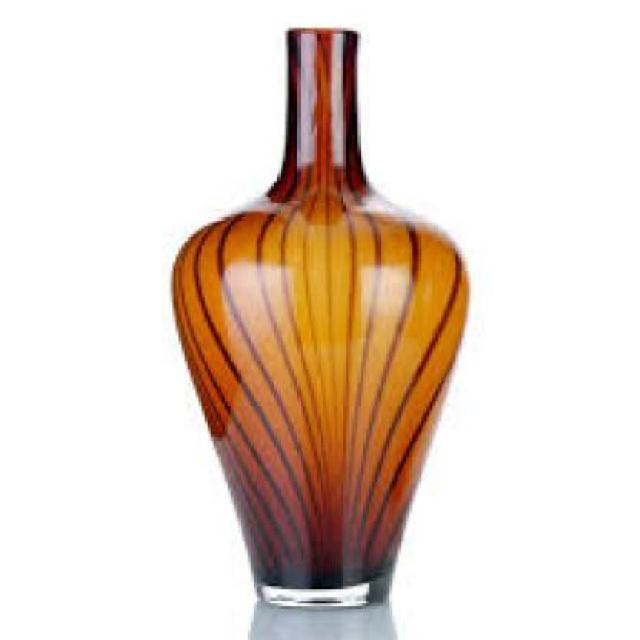kaca: (170, 25, 468, 609)
